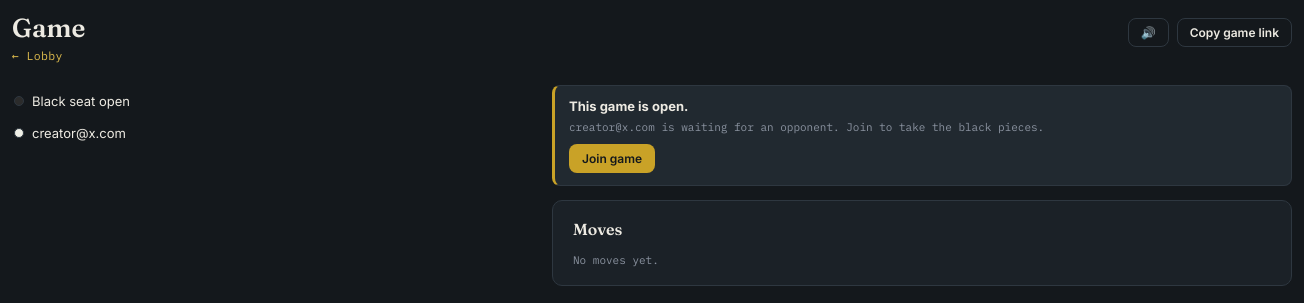
Scenario: GamePage › lets a non-participant open a shared PENDING game and join it
This screenshot has width=1304, height=303.
Click the button "Join game" at (612, 158), box [569,144,655,173]
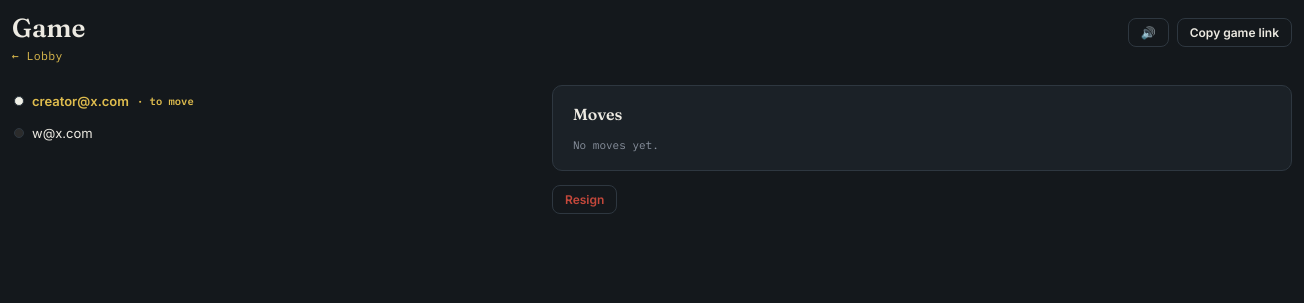
Now the button "Resign" is shown, box [552,185,617,214]
Now the button "Join game" is gone
